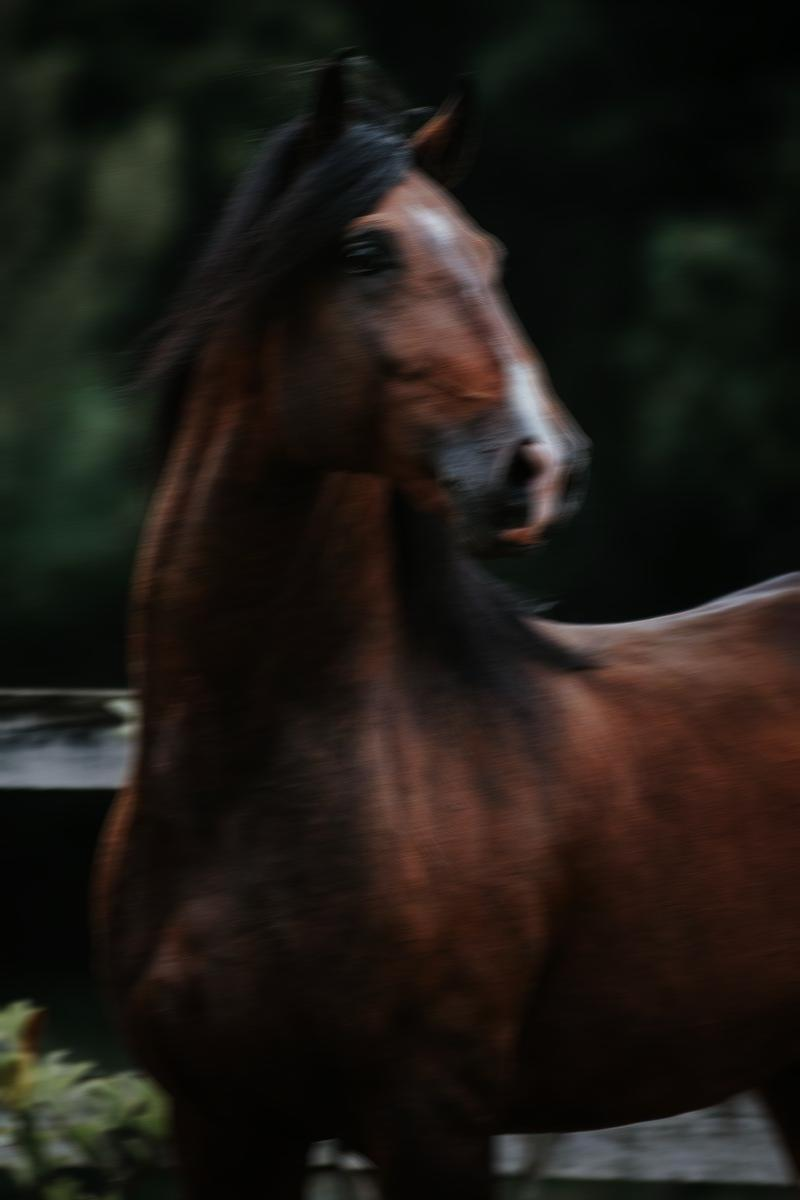horse: (90, 44, 800, 1197)
